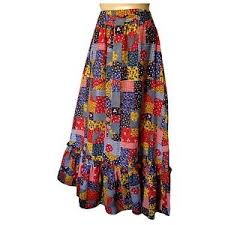C_skirt: (49, 8, 186, 223)
